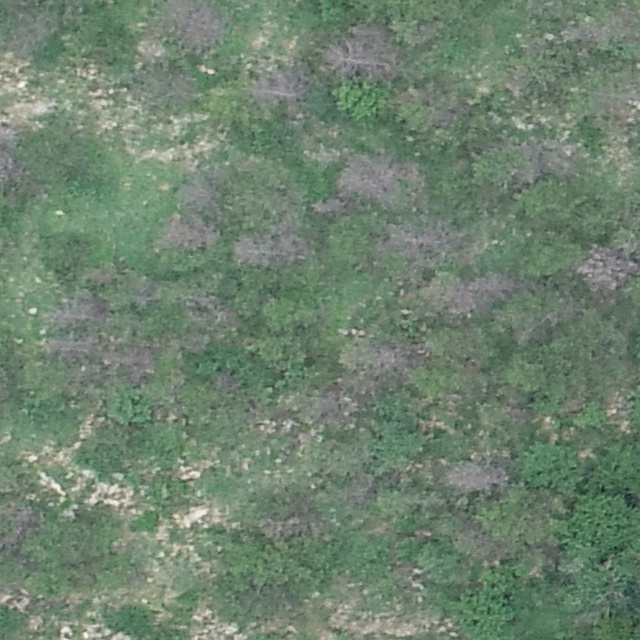unhealthy: (406, 269, 520, 322), (334, 150, 428, 208), (320, 21, 400, 84), (373, 221, 468, 263), (159, 0, 229, 56), (336, 336, 419, 377), (575, 242, 640, 294), (245, 67, 313, 116), (510, 138, 576, 185), (230, 234, 314, 269), (137, 68, 198, 114), (0, 500, 46, 556), (157, 211, 221, 251), (439, 457, 509, 493), (11, 12, 61, 62), (182, 293, 239, 333), (254, 504, 314, 542), (173, 171, 217, 211), (304, 386, 347, 426), (110, 343, 157, 379), (51, 297, 107, 326), (37, 335, 99, 359), (429, 96, 468, 126), (0, 131, 20, 189), (311, 196, 346, 217), (211, 368, 236, 395), (84, 266, 115, 284)
